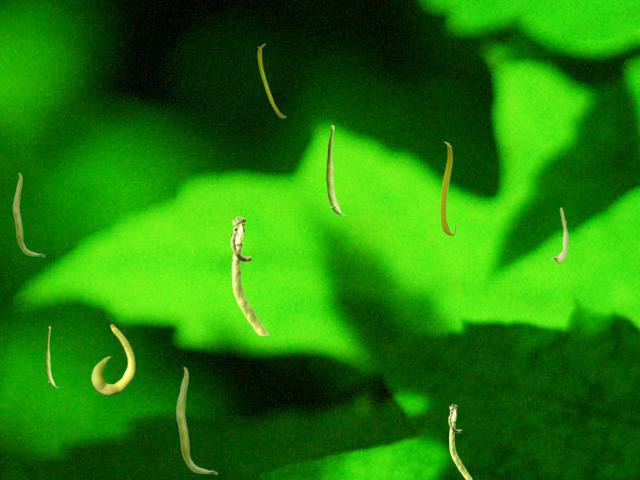french_bean: (175, 366, 217, 474), (230, 216, 268, 334), (91, 324, 134, 394), (12, 172, 44, 256), (257, 43, 285, 117), (326, 125, 346, 214), (448, 404, 471, 478), (440, 141, 455, 235), (551, 207, 567, 262), (45, 326, 58, 386)
